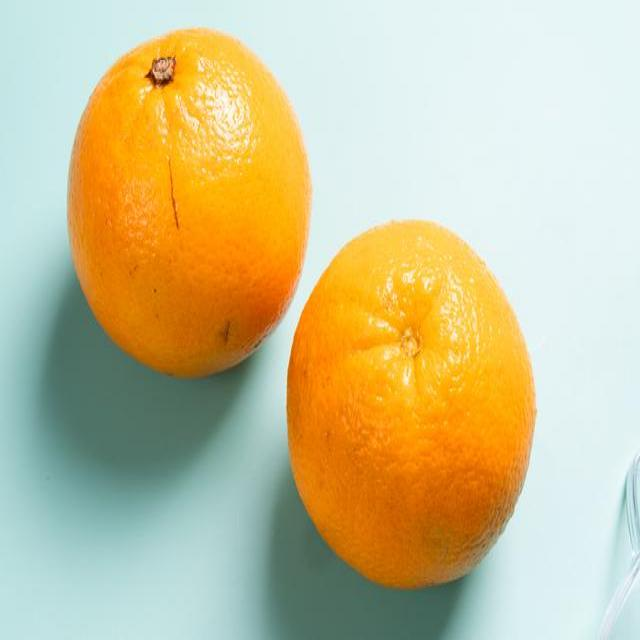Orange: (283, 214, 539, 592), (68, 23, 314, 380)
